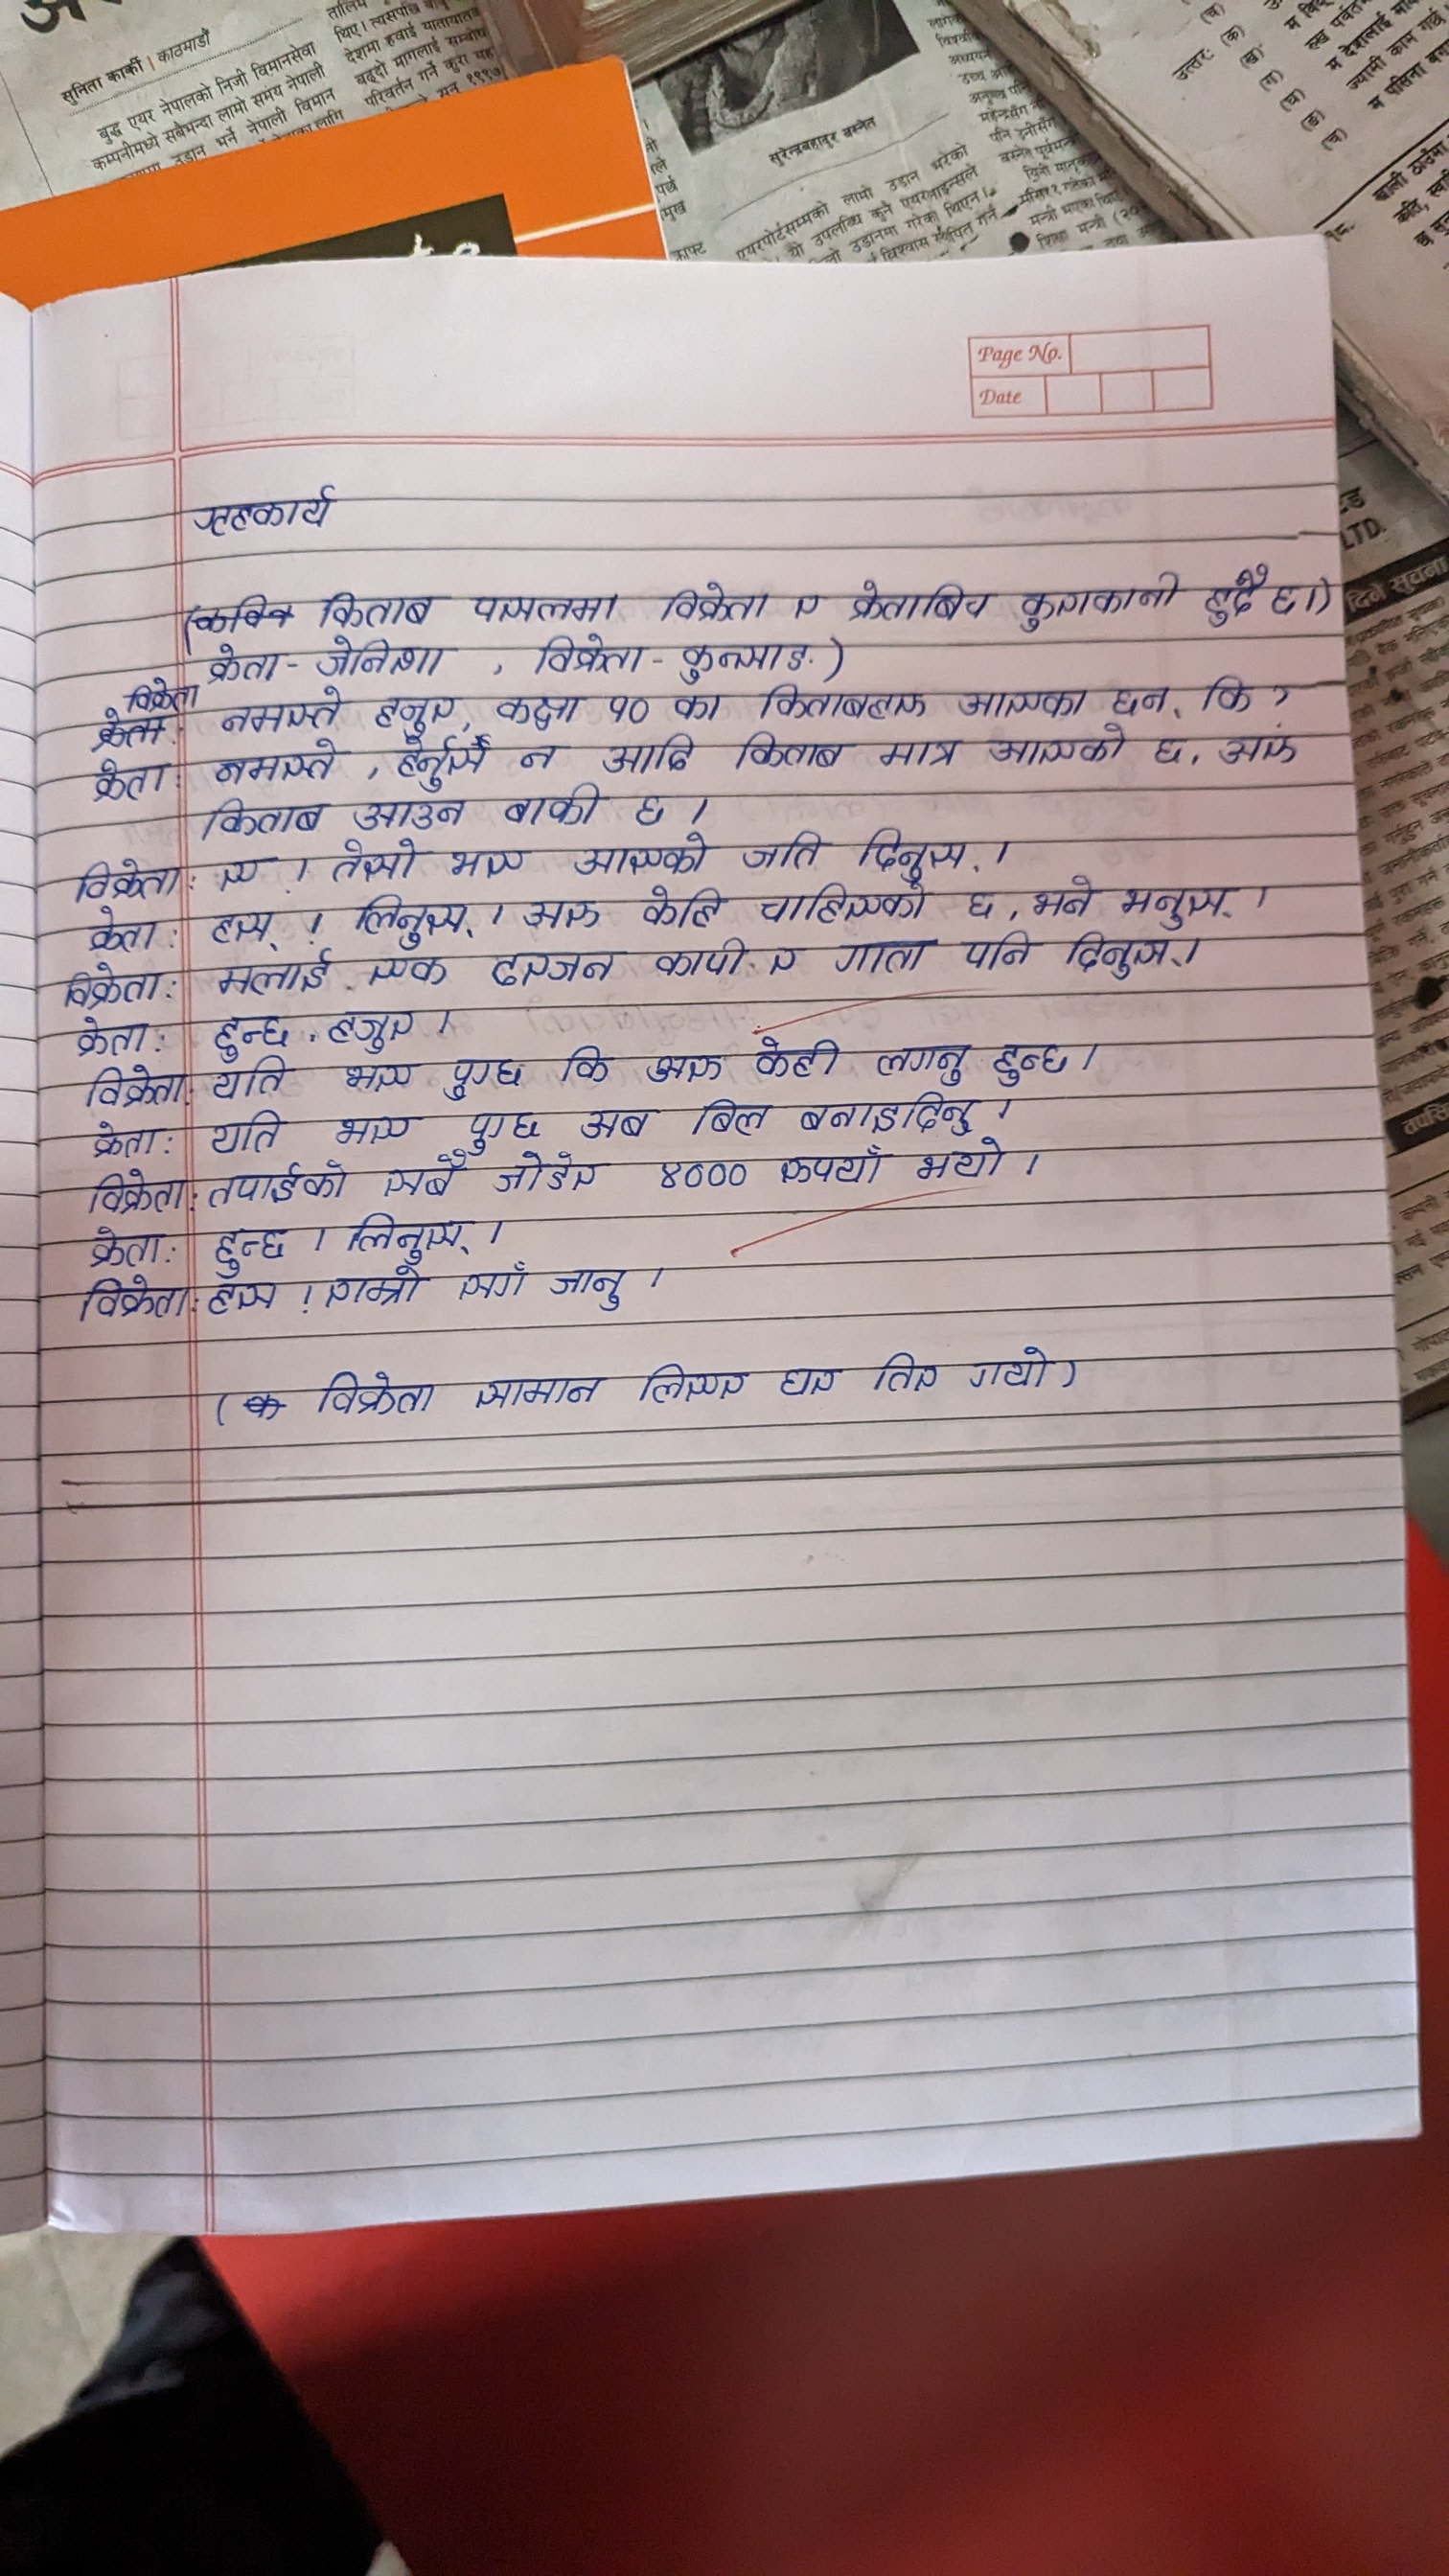text: (184, 474, 349, 543), (1014, 571, 1187, 633), (798, 1090, 977, 1138), (755, 883, 932, 925), (853, 821, 980, 879), (303, 1366, 435, 1421), (847, 575, 994, 623), (464, 1364, 609, 1412), (561, 833, 715, 876), (985, 725, 1132, 770), (637, 1352, 745, 1412), (349, 890, 471, 943), (212, 688, 350, 734), (341, 1212, 469, 1261), (74, 1270, 193, 1323), (674, 637, 810, 683), (313, 635, 448, 681), (205, 1164, 349, 1207), (1060, 929, 1178, 980), (202, 741, 341, 784), (469, 587, 619, 626), (488, 945, 617, 989), (768, 1145, 892, 1191), (959, 1341, 1062, 1396), (752, 686, 927, 718), (527, 632, 648, 678), (1118, 879, 1238, 925), (198, 798, 331, 837), (651, 582, 771, 625), (315, 1269, 430, 1313), (386, 734, 488, 784), (547, 1256, 637, 1311), (497, 1154, 609, 1198), (83, 1169, 186, 1217), (313, 587, 439, 626), (214, 955, 338, 994), (747, 1028, 847, 1076), (954, 681, 1088, 717), (453, 1265, 540, 1320), (865, 1039, 968, 1085), (62, 964, 168, 1008), (648, 936, 754, 980), (74, 860, 179, 904), (198, 1008, 294, 1056), (1198, 561, 1263, 628), (648, 1155, 755, 1196), (320, 1005, 419, 1049), (349, 796, 471, 832), (832, 939, 938, 980), (379, 1152, 465, 1201), (501, 784, 600, 826), (83, 1065, 182, 1108), (200, 1108, 287, 1155), (598, 731, 695, 773), (442, 1054, 531, 1100), (738, 824, 823, 870), (732, 734, 842, 770), (686, 1095, 770, 1141), (209, 1224, 288, 1272), (915, 1141, 1012, 1180), (993, 1035, 1069, 1085), (1217, 731, 1302, 775), (635, 886, 731, 925), (372, 686, 458, 729), (869, 1348, 943, 1398), (959, 929, 1039, 975), (329, 842, 423, 881), (81, 1224, 163, 1269), (83, 757, 170, 798), (492, 688, 577, 729), (364, 952, 446, 994), (203, 640, 281, 685), (212, 908, 287, 954), (642, 1053, 731, 1090), (874, 736, 961, 773), (465, 1108, 543, 1148), (1031, 869, 1095, 918), (205, 1279, 280, 1320), (327, 1109, 412, 1145), (212, 1062, 288, 1100), (88, 1118, 159, 1159), (87, 911, 154, 952), (117, 681, 202, 713), (552, 1044, 616, 1086), (524, 893, 600, 929), (582, 1109, 658, 1145), (777, 1355, 837, 1399), (444, 846, 527, 878), (1108, 679, 1177, 717), (341, 1058, 419, 1090), (73, 1019, 145, 1053), (1194, 672, 1256, 709), (214, 856, 269, 897), (628, 782, 672, 826), (511, 738, 564, 771), (959, 886, 1007, 922), (672, 692, 725, 722), (789, 591, 828, 628), (603, 692, 651, 722), (1148, 731, 1185, 768), (1270, 582, 1300, 619), (766, 939, 793, 977)
